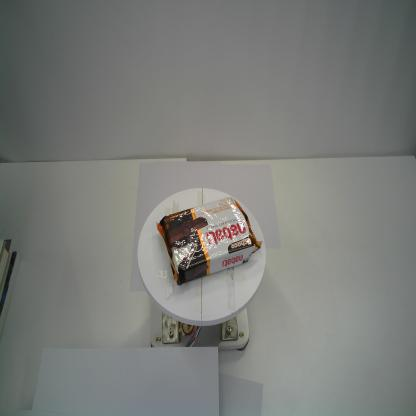Dessert: (155, 198, 262, 286)
